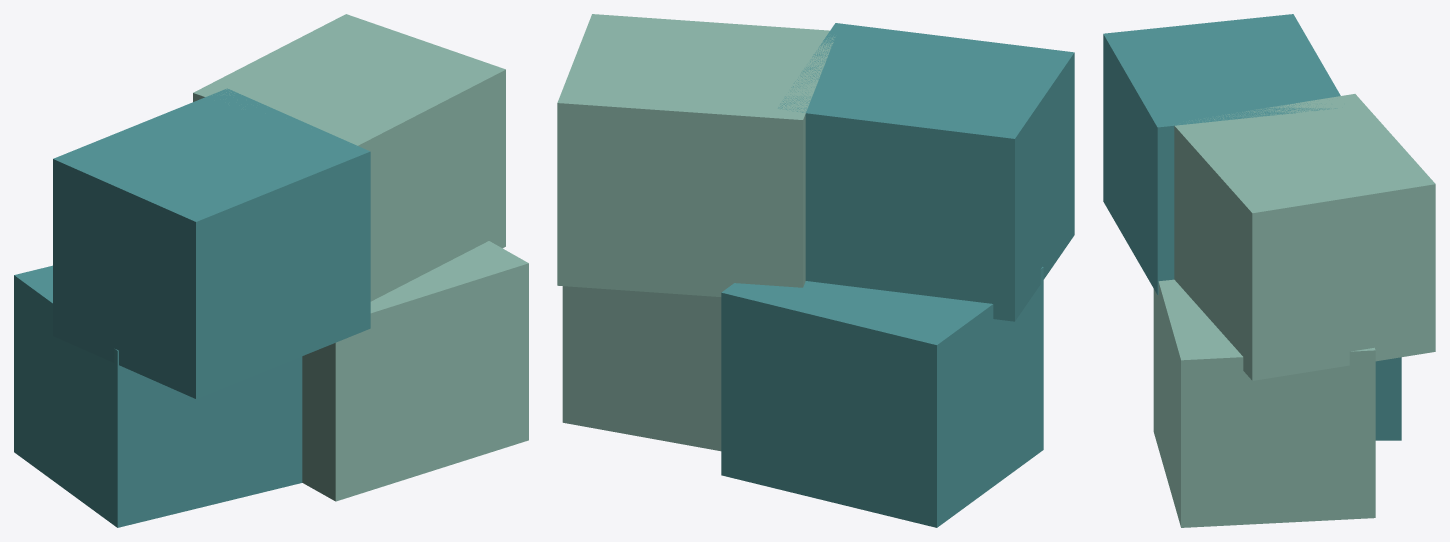
File: dock_supply.glb
3 renders of one model, left to right at view 1: azimuth 30°, elevation 25°; view 2: azimuth 150°, elevation 25°; view 3: azimuth 270°, elevation 25°, orthographic. The views are drawn at different scales.
Parts seen in each view (by area): view 1: crate_2, crate_3, crate_1, crate_0; view 2: crate_2, crate_3, crate_0, crate_1; view 3: crate_3, crate_1, crate_2, crate_0.
Boxes of the visible parts, x1,y1,x2,y2 form: crate_2: (53, 88, 370, 398); crate_3: (193, 14, 505, 301); crate_1: (302, 241, 528, 501); crate_0: (14, 265, 302, 527); crate_2: (778, 23, 1074, 321); crate_3: (557, 14, 835, 296); crate_0: (721, 267, 1043, 527); crate_1: (562, 286, 721, 451); crate_3: (1174, 94, 1435, 380); crate_1: (1153, 279, 1375, 527); crate_2: (1103, 14, 1340, 294); crate_0: (1375, 357, 1401, 440).
Size of what is drawn, in the model's own units: 2.17 by 1.63 by 1.53.
